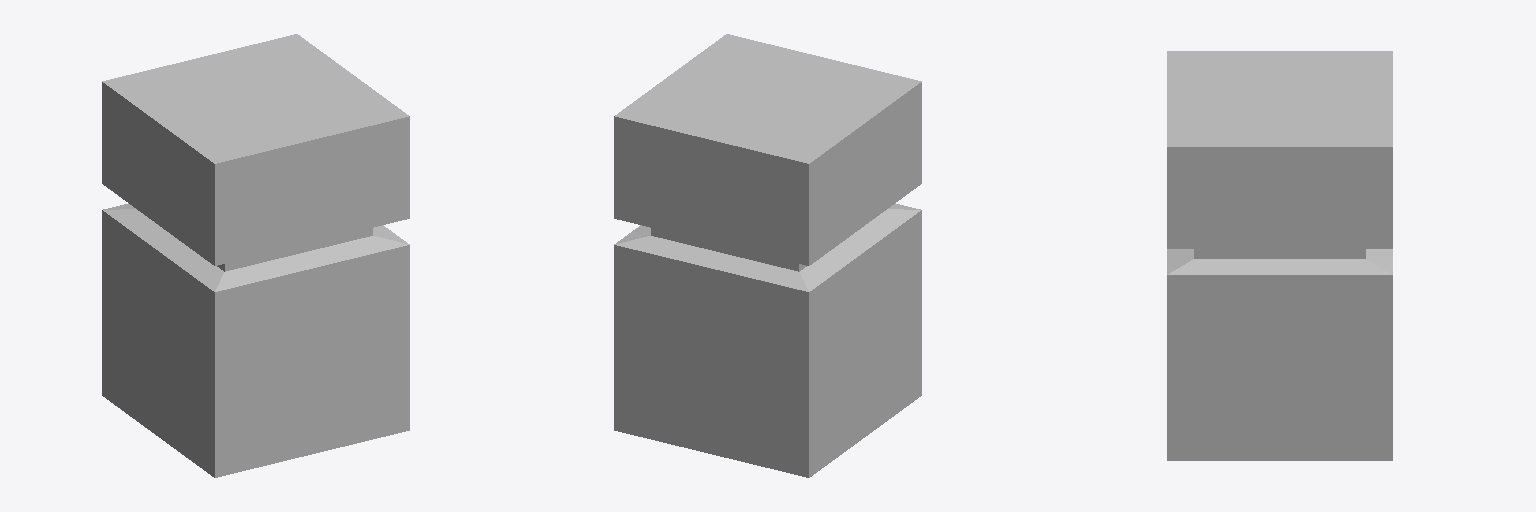
Rendered from Dark_Square_Short_Solid.obj.
The picture shows the model from 3 angles: view 1: azimuth 30°, elevation 25°; view 2: azimuth 150°, elevation 25°; view 3: azimuth 270°, elevation 25°; orthographic projection.
Visible parts, largest first — view 1: Dark_Square_Short_Solid; view 2: Dark_Square_Short_Solid; view 3: Dark_Square_Short_Solid.
Boxes of the visible parts, x1=… form: Dark_Square_Short_Solid: x1=102, y1=34, x2=409, y2=477; Dark_Square_Short_Solid: x1=614, y1=34, x2=921, y2=477; Dark_Square_Short_Solid: x1=1167, y1=51, x2=1392, y2=460.
Bounding box in the file's own units: 0.65 × 0.9992 × 0.65.